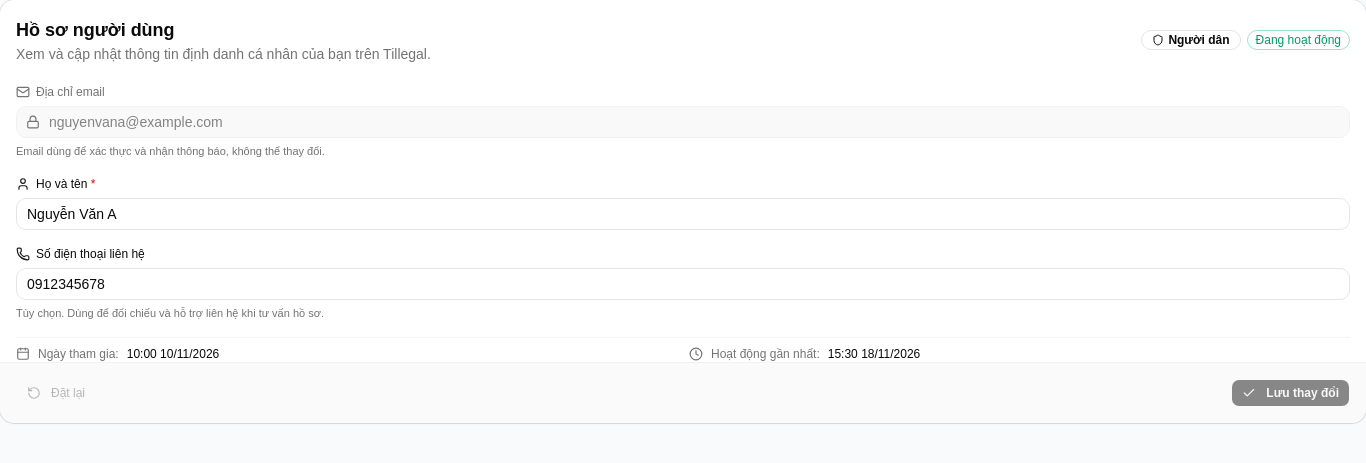
Scenario: User Feature › ProfileInfoForm component › validates phone number regex format
The width and height of the screenshot is (1366, 463).
Replace the text in the field showing "0912345678" with "abc12345" at coordinates (683, 284), box x1=16 y1=268 x2=1350 y2=300
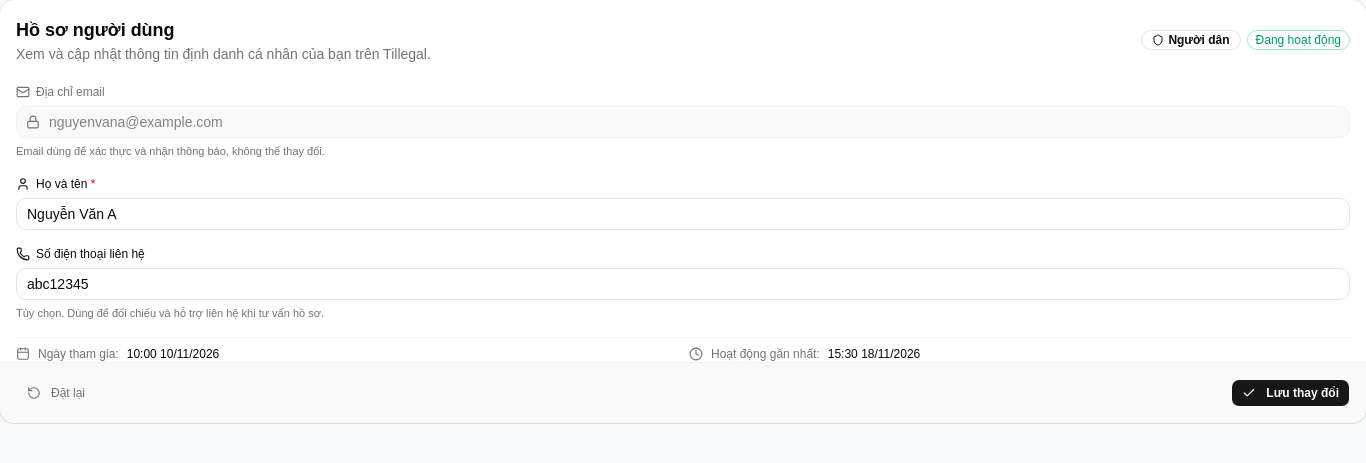
Click the button "Lưu thay đổi".
click(1291, 393)  # box x1=1231 y1=379 x2=1350 y2=407
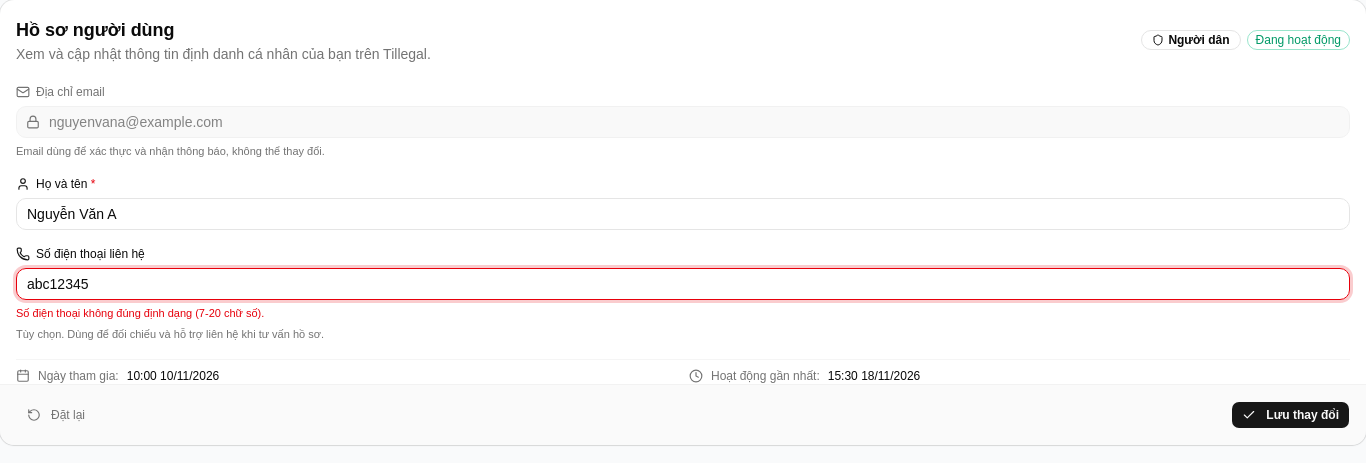
Check: the text "Số điện thoại không đúng định dạng (7-20 chữ số)." is shown, box x1=16 y1=307 x2=264 y2=319
